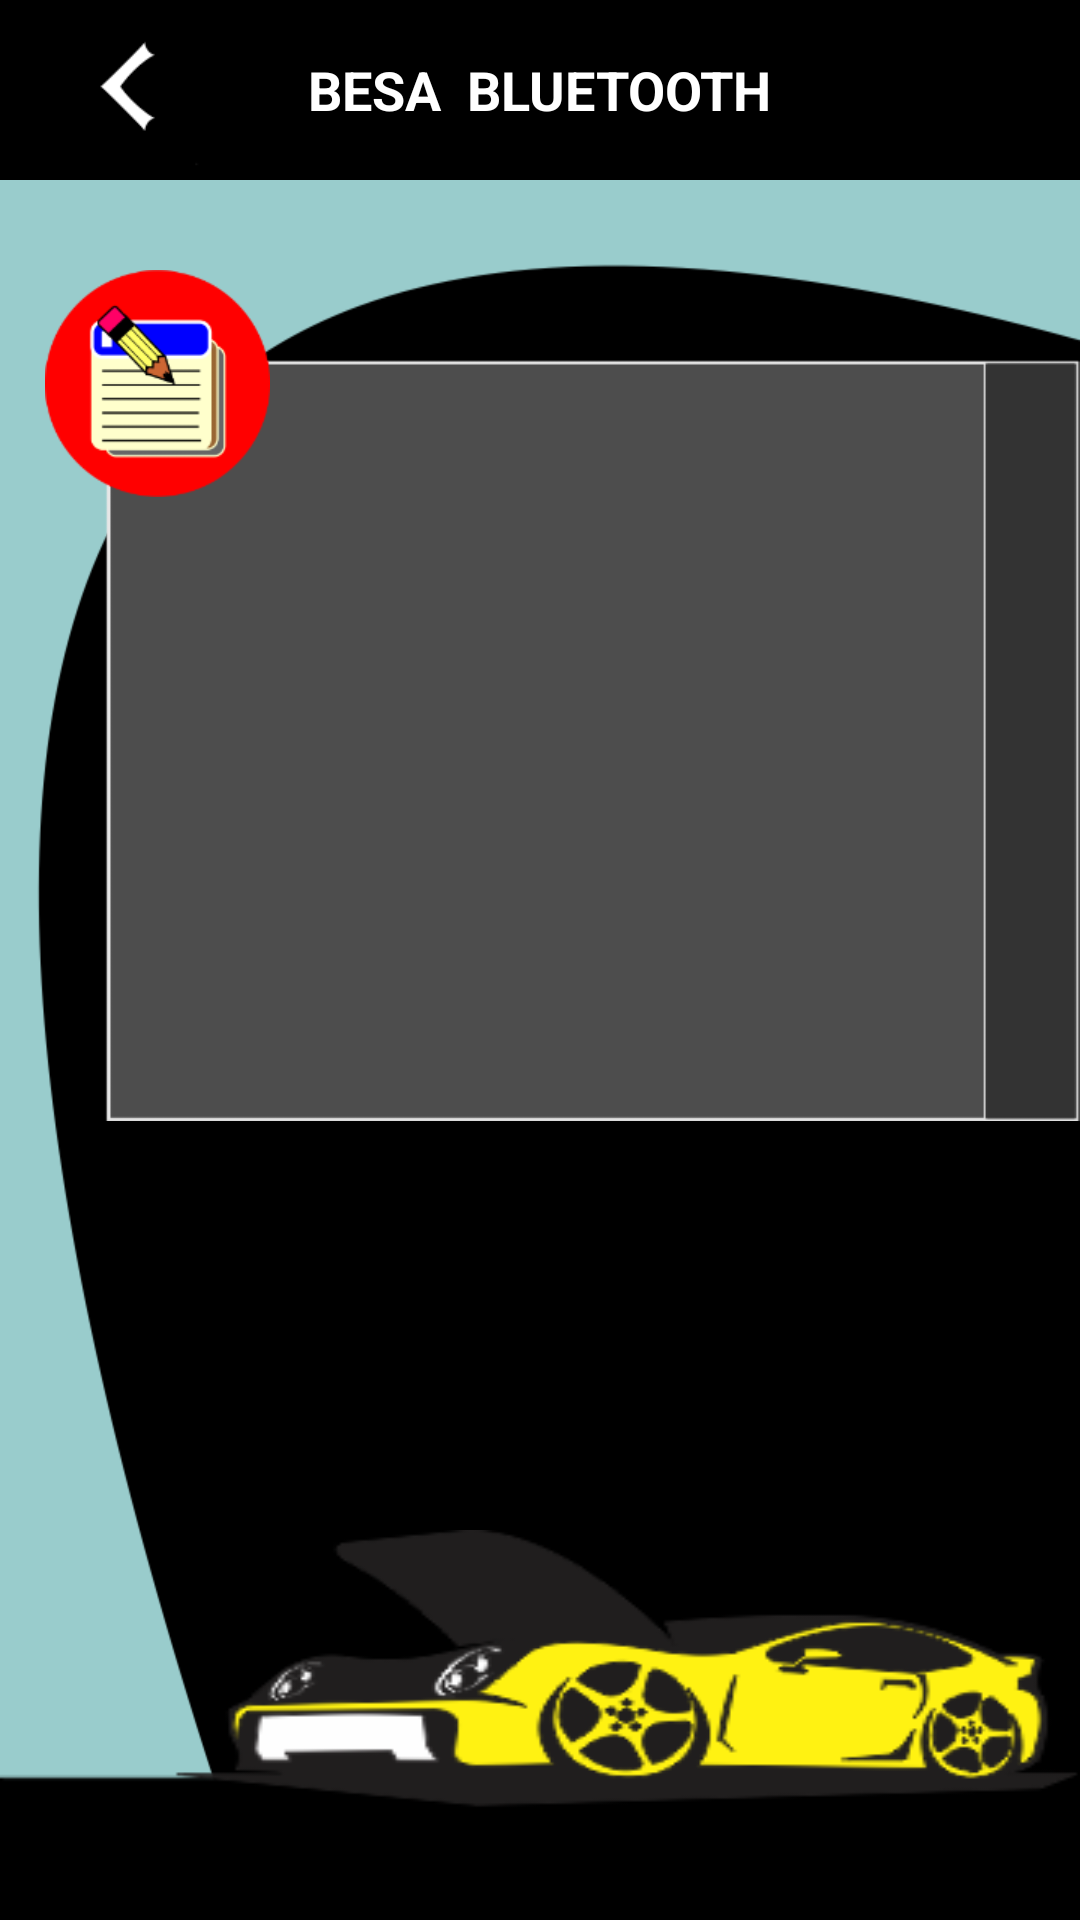

Point at icon controls on the screen. Image size 1080*1920, points as (x=x, y=y).
back: (x=127, y=86)
note: (x=157, y=383)
